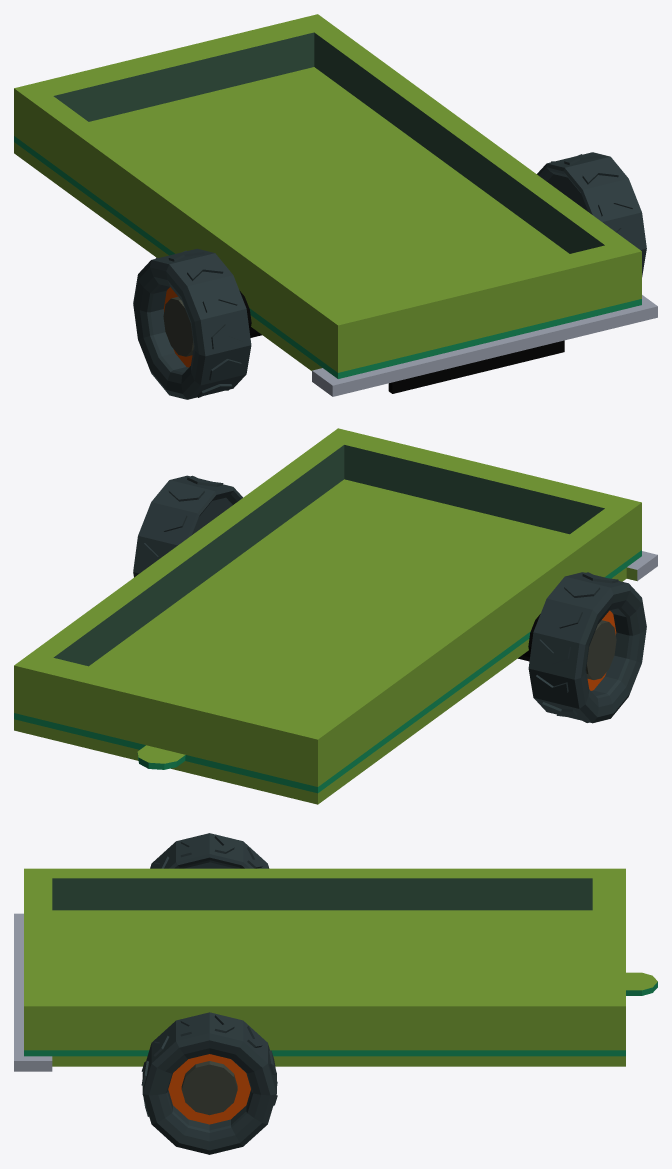
File: tractor_trailer.fbx
3 views of the same model, one above another, from view 1: azimuth 30°, elevation 25°; view 2: azimuth 150°, elevation 25°; view 3: azimuth 270°, elevation 25° (orthographic). The views are drawn at different scales.
Visible parts, largest first — view 1: tractor_trailer, Cylinder.003; view 2: tractor_trailer, Cylinder.003; view 3: tractor_trailer, Cylinder.003.
Part boxes in pixels (x1=…): tractor_trailer: x1=14, y1=14, x2=657, y2=396; Cylinder.003: x1=133, y1=152, x2=646, y2=399; tractor_trailer: x1=14, y1=428, x2=657, y2=804; Cylinder.003: x1=133, y1=475, x2=646, y2=723; tractor_trailer: x1=14, y1=868, x2=657, y2=1071; Cylinder.003: x1=141, y1=833, x2=277, y2=1154.
Bounding box in the file's own units: 1232 × 350 × 1654.
